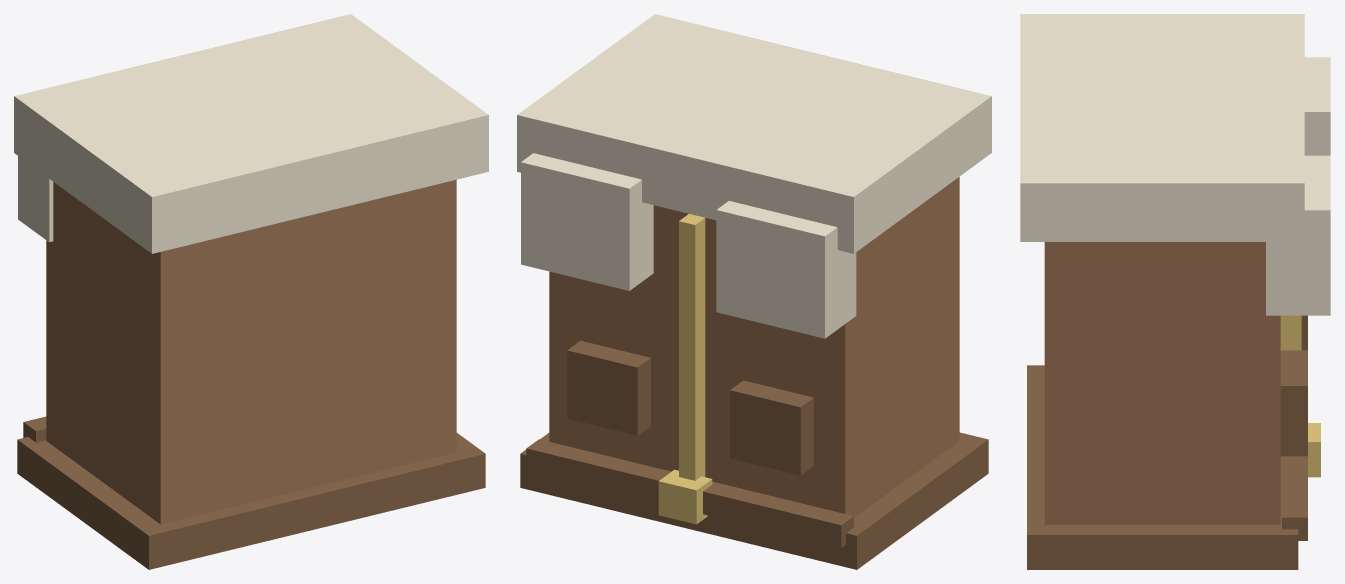
The model's file is aviador_tronco.glb.
The picture shows the model from 3 angles, left to right: view 1: azimuth 30°, elevation 25°; view 2: azimuth 150°, elevation 25°; view 3: azimuth 270°, elevation 25°; orthographic projection. The views are drawn at different scales.
Visible parts, largest first — view 1: aviador_tronco; view 2: aviador_tronco; view 3: aviador_tronco.
Part boxes in pixels (x1=…): aviador_tronco: x1=14, y1=14, x2=488, y2=569; aviador_tronco: x1=517, y1=14, x2=991, y2=569; aviador_tronco: x1=1020, y1=14, x2=1330, y2=569.
Bounding box in the file's own units: 0.62 × 0.66 × 0.48.
